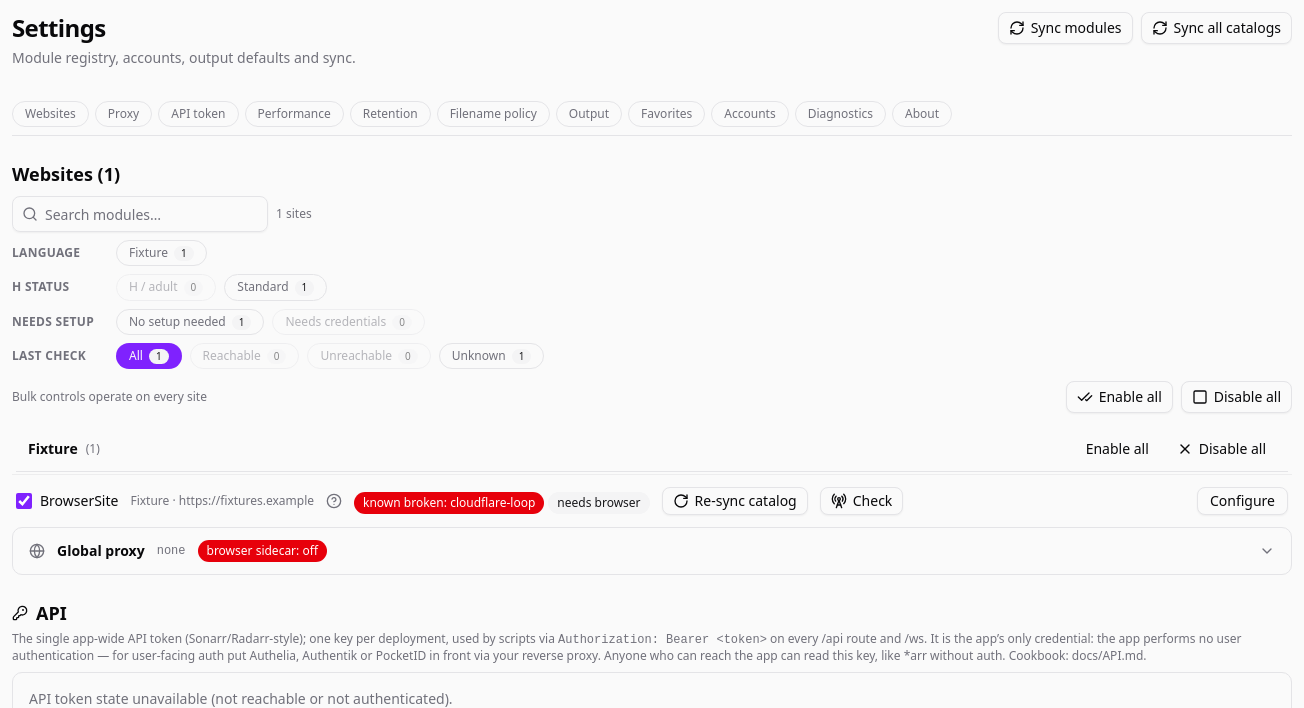
it: Settings page module list (badges over the API) › lists modules with badges and opens the options editor
Expected: the text "BrowserSite" is shown, [16,491,118,511]
Expected: the text "known broken: cloudflare-loop" is shown, [354,492,544,514]
Click the button "Configure" at x=1242, y=501, box [1197,487,1288,515]
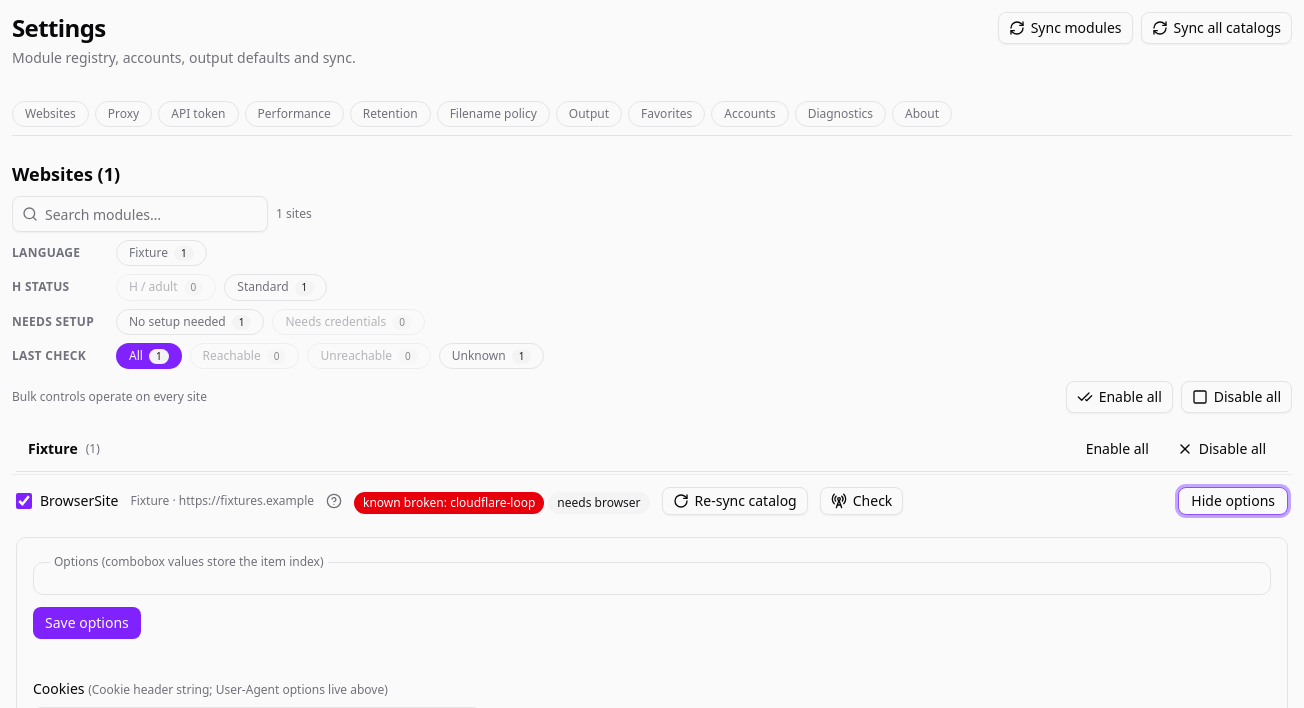
Now the form named "Options for BrowserSite" is shown, box [33,554,1271,667]
